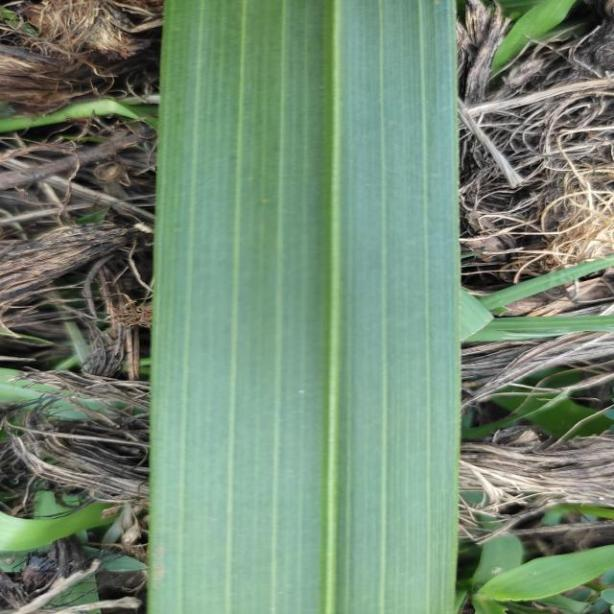Healthy: (152, 0, 462, 614)
